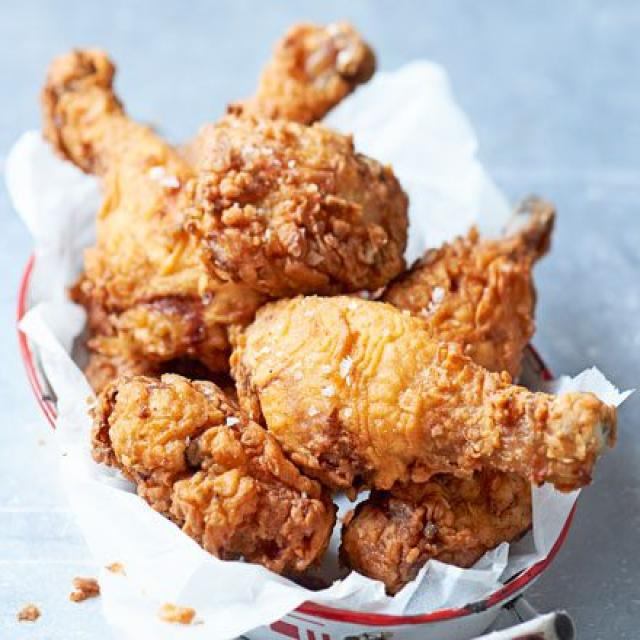Frango: (41, 21, 621, 598)
